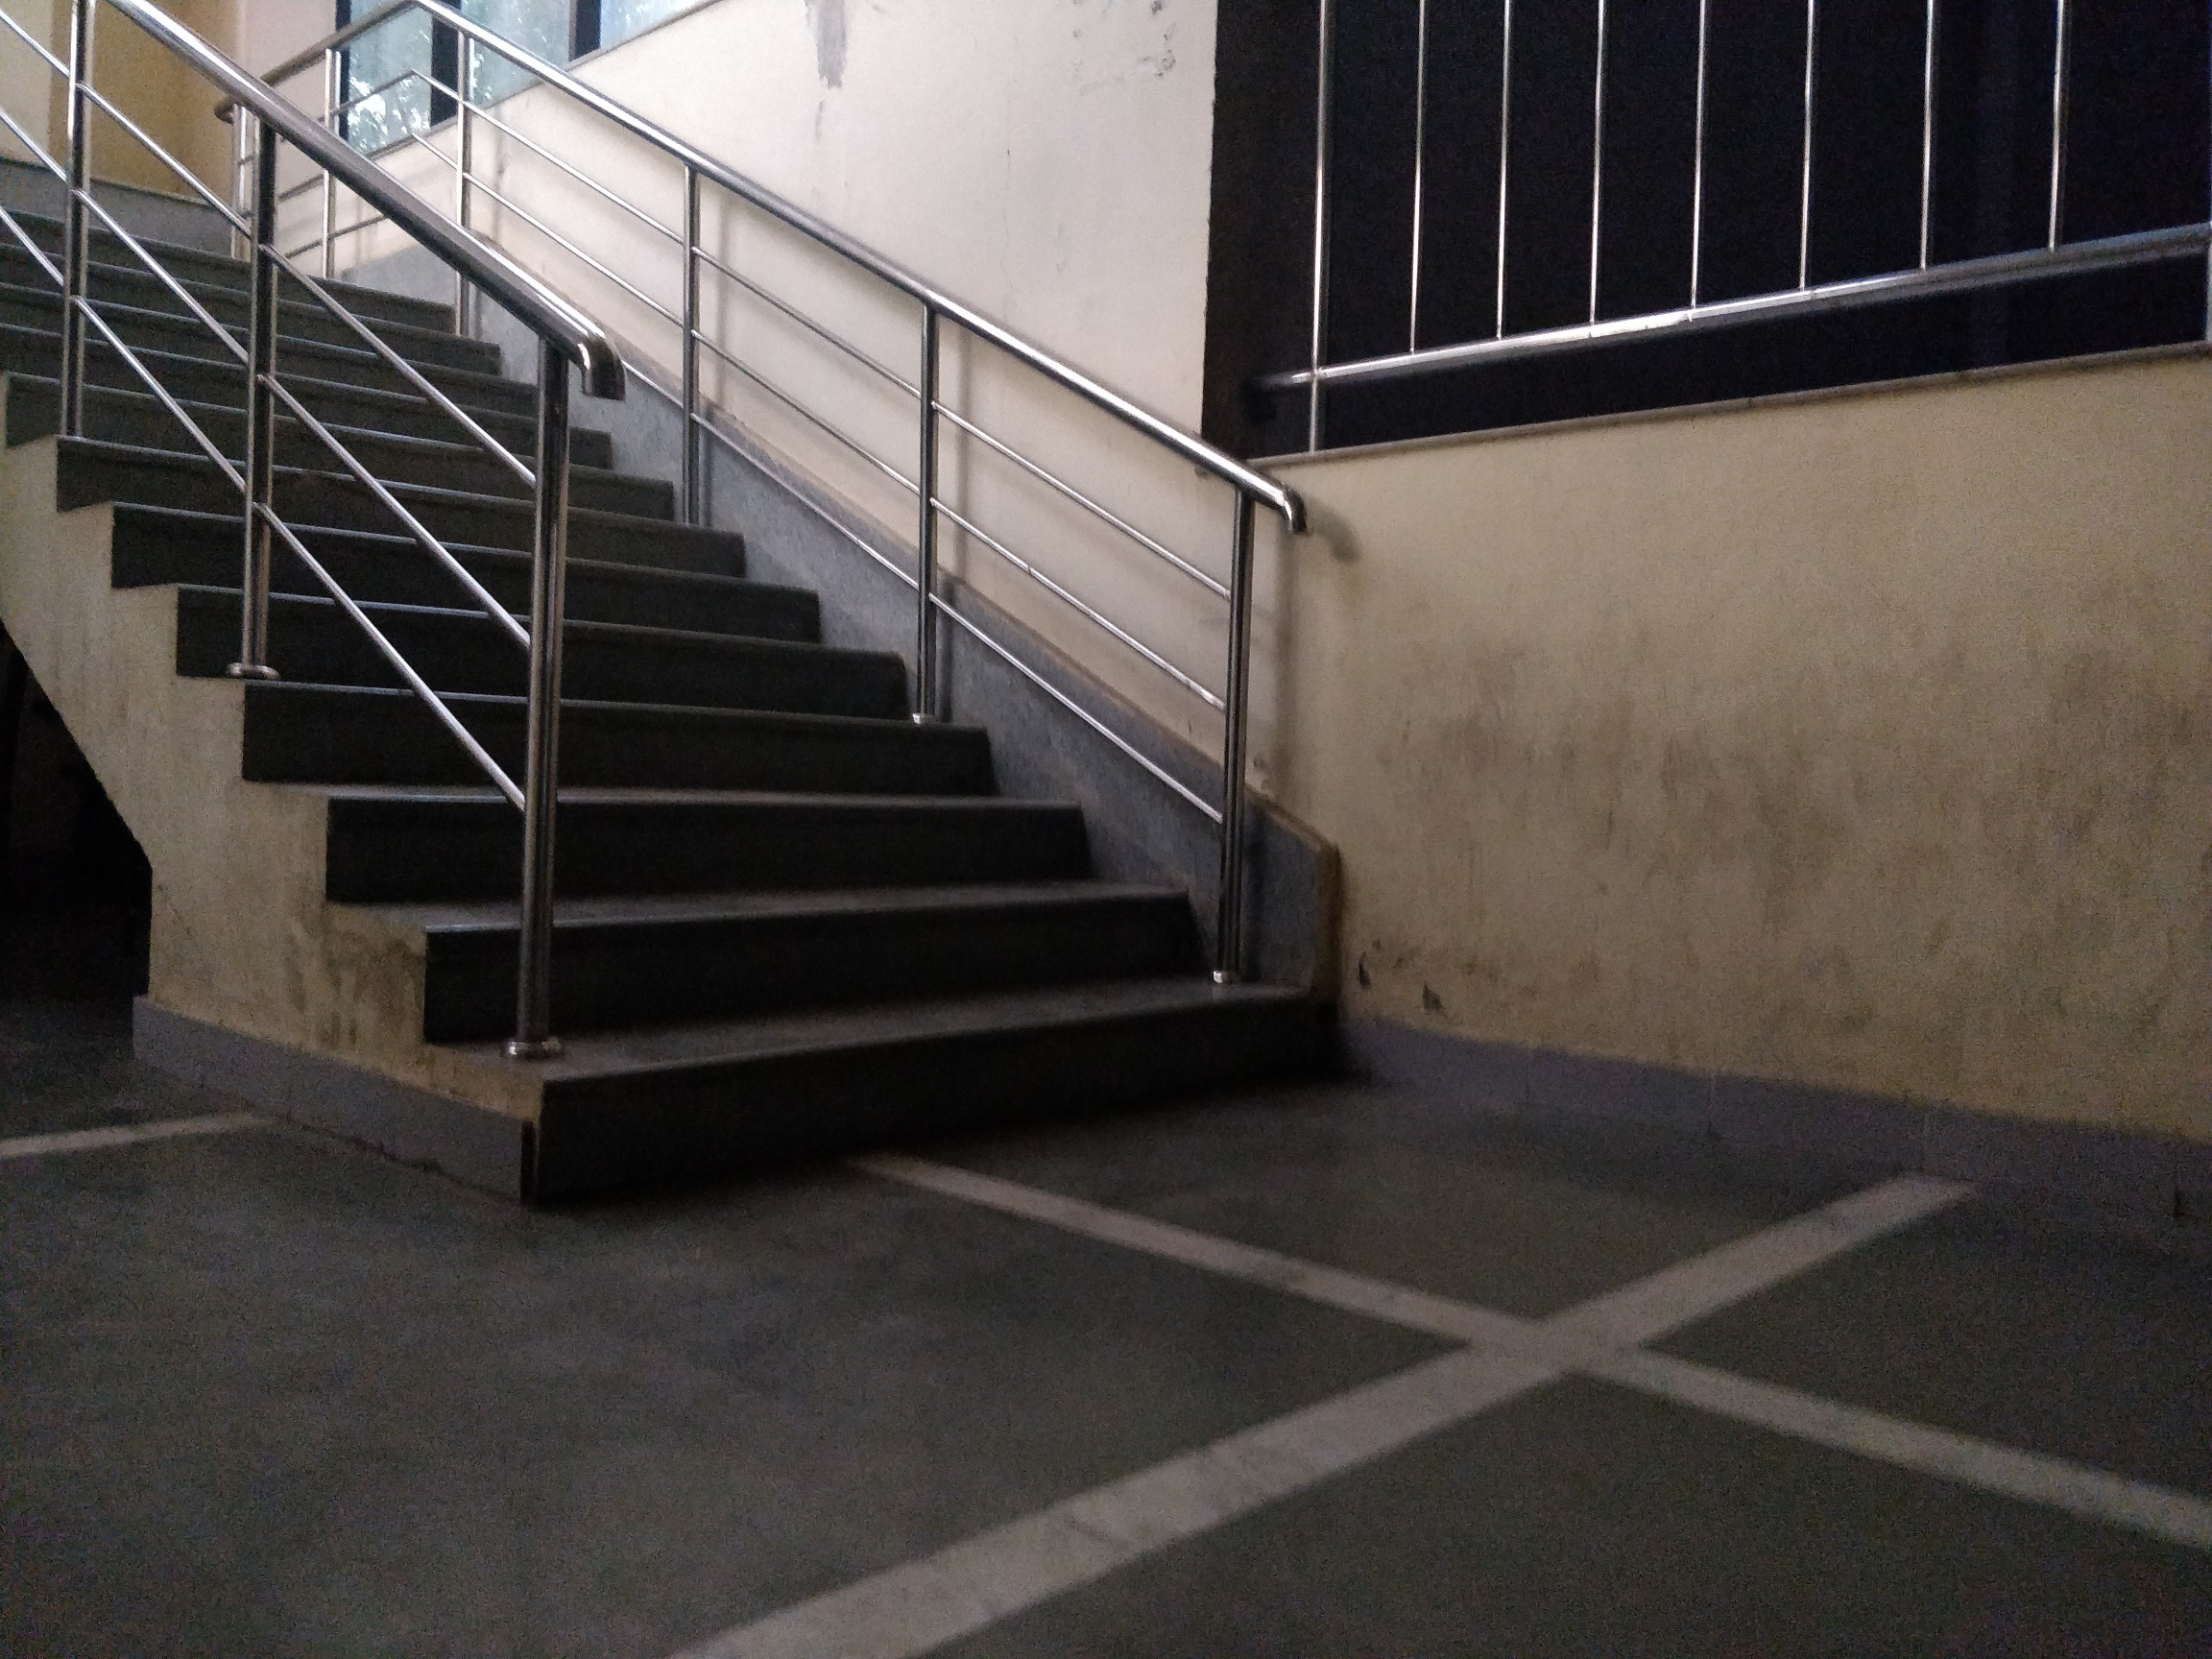stairs_up: (77, 228, 1240, 1136)
